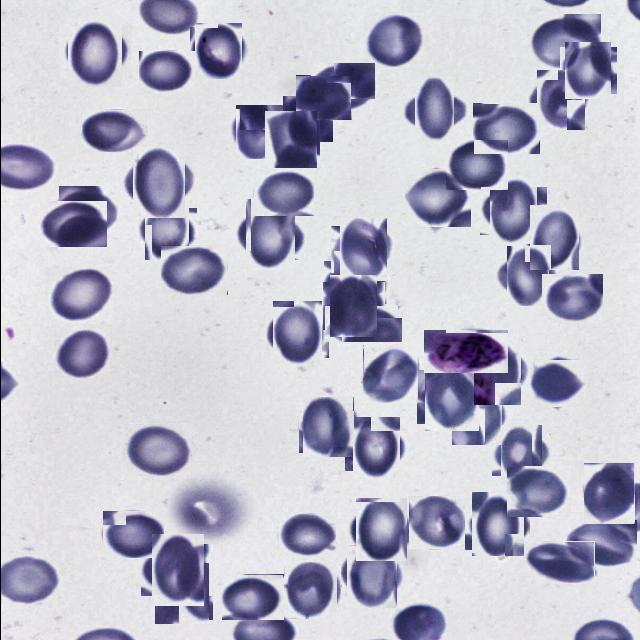red blood cell: (529, 14, 600, 72), (62, 19, 125, 82), (146, 538, 208, 602), (44, 267, 113, 324), (406, 167, 468, 230), (126, 151, 188, 213), (420, 367, 481, 428), (239, 205, 300, 265), (562, 520, 636, 568), (124, 423, 191, 476), (472, 103, 539, 154), (468, 495, 526, 553), (152, 564, 210, 622), (363, 12, 424, 67), (160, 245, 227, 295), (484, 182, 541, 240), (468, 344, 526, 401), (525, 209, 582, 267), (362, 344, 418, 403), (506, 466, 570, 517), (268, 304, 324, 362), (342, 548, 400, 604), (352, 502, 409, 558), (310, 62, 375, 111), (583, 462, 634, 524), (300, 400, 356, 456), (334, 222, 390, 278), (444, 140, 506, 190), (39, 201, 106, 247), (325, 278, 380, 334), (449, 388, 504, 443), (348, 420, 403, 475), (262, 112, 318, 166), (408, 496, 465, 549), (58, 186, 116, 238), (541, 274, 602, 323), (102, 510, 164, 558), (532, 73, 586, 127), (525, 541, 594, 583), (324, 305, 402, 342), (285, 564, 338, 618), (220, 574, 282, 620), (80, 109, 146, 152), (253, 169, 313, 216), (328, 256, 381, 309), (53, 329, 109, 378), (140, 204, 192, 256), (501, 250, 553, 302), (192, 24, 244, 76), (408, 84, 460, 136), (532, 358, 584, 410), (562, 44, 614, 96), (233, 107, 285, 158), (495, 430, 546, 480), (295, 75, 351, 120), (138, 51, 194, 94), (278, 514, 335, 556), (282, 96, 332, 142)
trophozoite: (423, 329, 508, 373)
